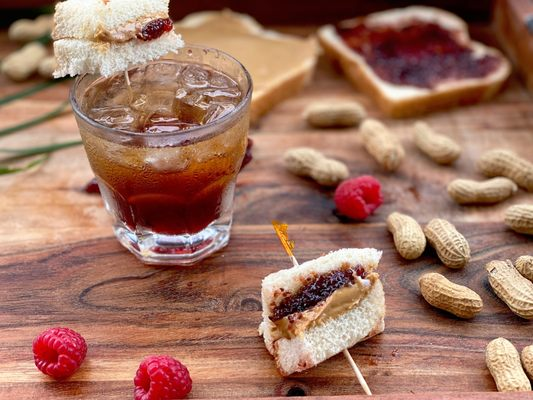soup: (259, 247, 386, 377)
